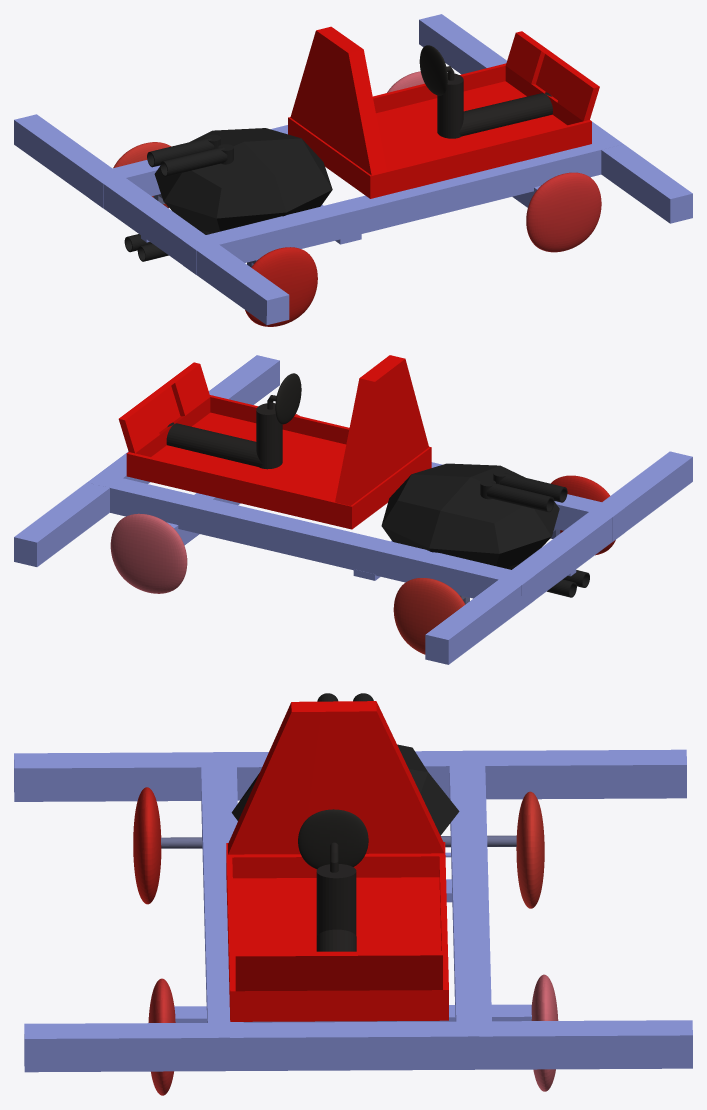
File: Ash.fbx
The picture shows the model from 3 angles, top to bottom: view 1: azimuth 30°, elevation 25°; view 2: azimuth 150°, elevation 25°; view 3: azimuth 270°, elevation 25°; orthographic projection. The views are drawn at different scales.
Visible parts, largest first — view 1: Cube, Cube.008, Cube.007, Cube.001, Cube.006, Cylinder.010, Cylinder.009, Cube.009, Cylinder.005, Cylinder.006, Cube.005; view 2: Cube, Cube.008, Cube.007, Cube.004, Cube.005, Cylinder.010, Cylinder.009, Cylinder.006, Cube.009, Cube.006, Cylinder.005; view 3: Cube, Cube.008, Cube.009, Cube.005, Cube.006, Cylinder.009, Cube.007, Cube.004, Cube.001, Cylinder, Cylinder.010.
Boxes of the visible parts, x1,y1,x2,y2 form: Cube: (14,14,692,324); Cube.008: (288,26,599,198); Cube.007: (154,128,332,233); Cube.001: (526,172,601,252); Cube.006: (245,247,317,326); Cylinder.010: (459,92,552,136); Cylinder.009: (437,73,463,138); Cube.009: (419,45,447,95); Cylinder.005: (160,147,227,176); Cylinder.006: (147,137,214,167); Cube.005: (113,142,170,208); Cube: (14,355,692,664); Cube.008: (118,355,431,529); Cube.007: (381,463,559,568); Cube.004: (110,513,187,593); Cube.005: (393,578,465,654); Cylinder.010: (166,422,262,466); Cylinder.009: (256,403,282,469); Cylinder.006: (486,482,554,512); Cube.009: (275,373,301,424); Cube.006: (551,475,615,555); Cylinder.005: (500,473,567,502); Cube: (14,749,692,1072); Cube.008: (226,701,448,1021); Cube.009: (298,809,368,869); Cube.005: (516,791,544,908); Cube.006: (133,787,161,904); Cylinder.009: (316,864,356,937); Cube.007: (231,744,459,835); Cube.004: (531,974,558,1091); Cube.001: (148,978,175,1095); Cylinder: (161,835,516,848); Cylinder.010: (316,929,356,951).
Bounding box in the file's own units: 383 × 170 × 378.
